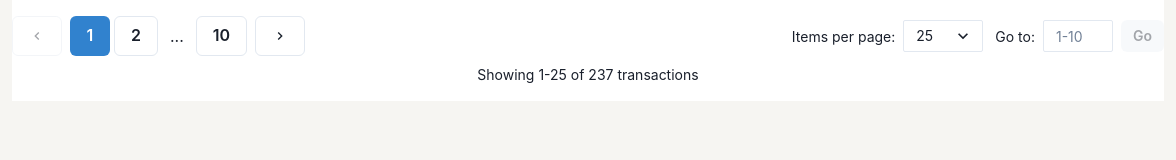
Test: PaginationControls › AC-9.7.6: Validation and Error Handling › shows error for page number below 1
The image size is (1176, 160).
Type "0" into the field named "Jump to page number" at (1078, 36), box 1043,20 -> 1113,52
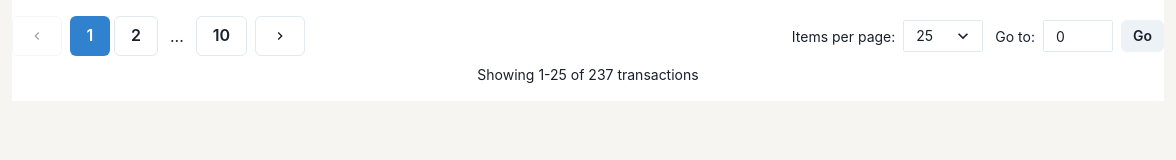
Press Enter in the field named "Jump to page number", box 1043,20 -> 1113,52
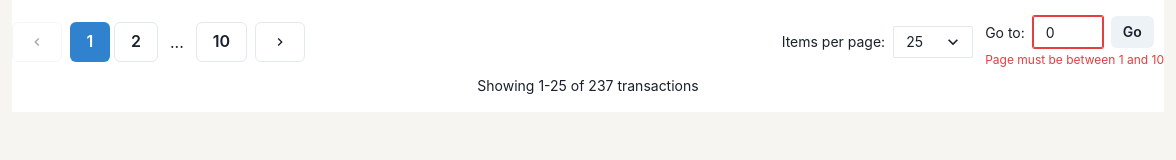
Check: the text "Page must be between 1 and 10" is shown, box 985,52 -> 1164,67
